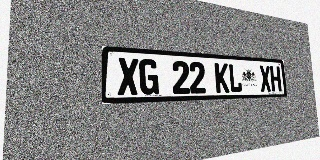2: (172, 60, 190, 94), (189, 61, 206, 94)
G: (139, 59, 159, 95)
H: (270, 66, 282, 91)
K: (214, 63, 229, 93)
L: (228, 63, 242, 93)
X: (117, 57, 139, 95), (259, 65, 271, 92)
